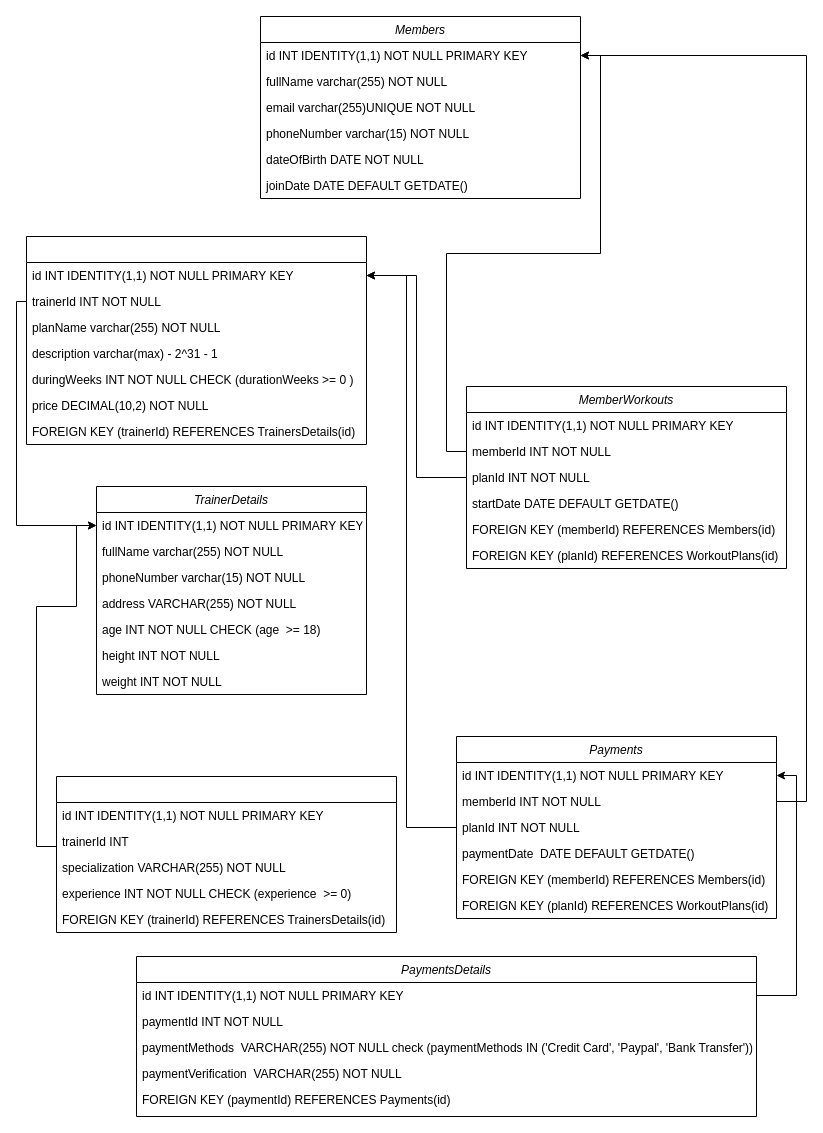
The diagram is 823 pixels wide and 1133 high, and some of its shapes have lost their labels. Each missing label, with the box of its shape:
TrainerSpecialization: (56, 776, 396, 932)
WorkoutPlans: (26, 236, 366, 444)
